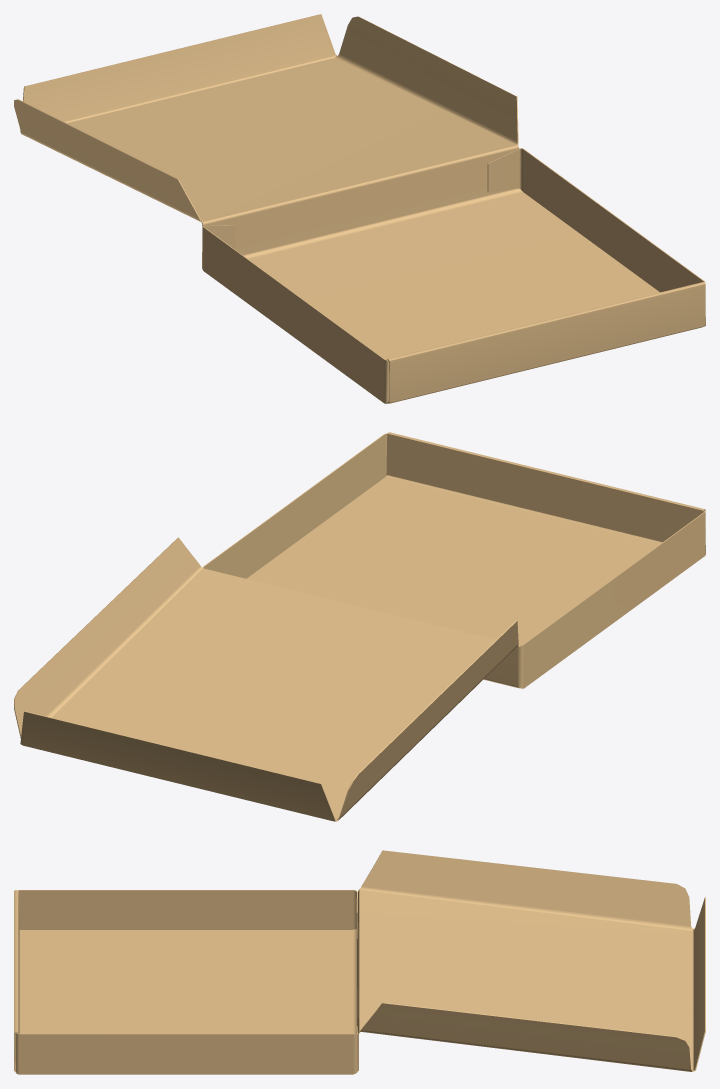
Rendered from caja-de-pizza.fbx.
The picture shows the model from 3 angles, top to bottom: view 1: azimuth 30°, elevation 25°; view 2: azimuth 150°, elevation 25°; view 3: azimuth 270°, elevation 25°; orthographic projection. The views are drawn at different scales.
Visible parts, largest first — view 1: Caja-pizza; view 2: Caja-pizza; view 3: Caja-pizza.
Part boxes in pixels (x1,y1,x2,y2): Caja-pizza: [14, 14, 705, 403]; Caja-pizza: [14, 432, 705, 821]; Caja-pizza: [14, 850, 705, 1074].
Bounding box in the file's own units: 91.5 × 21.11 × 174.
Materials: 1 (1 with a texture image).
